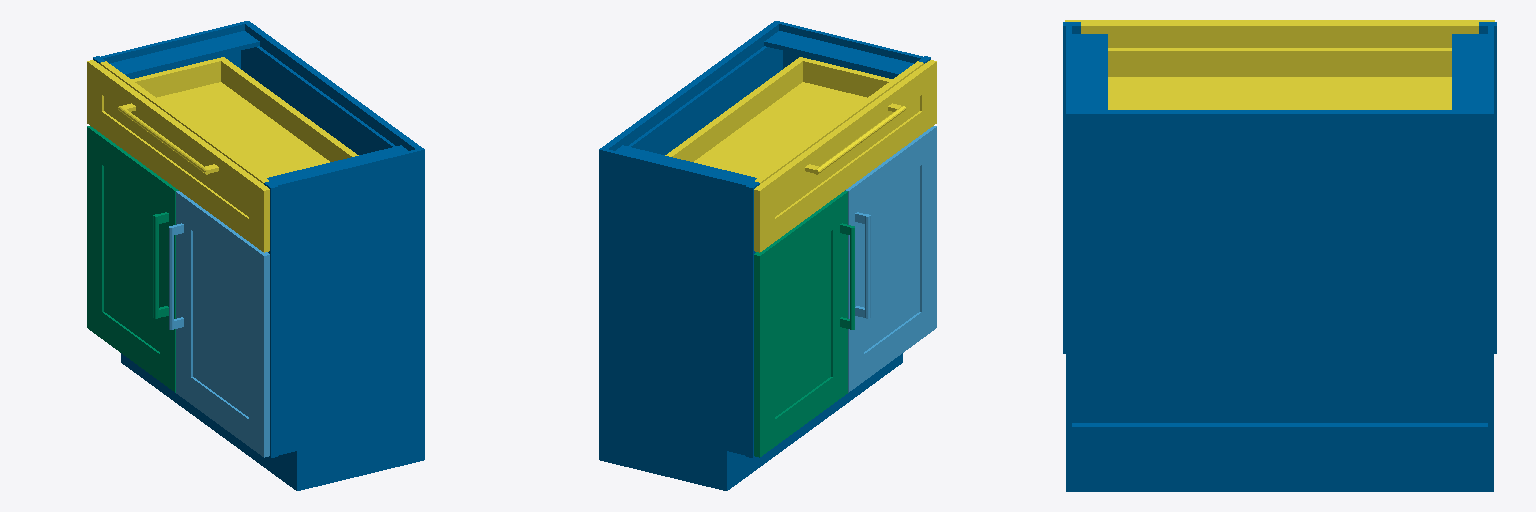
URDF robot description (partnet_12b0773858754105c59350d819542ec7):
<?xml version="1.0" ?>
<robot name="partnet_12b0773858754105c59350d819542ec7">
	<link name="base"/>
	<link name="link_0">
		<visual name="cabinet_door_surface-23">
			<origin xyz="-0.6814305018069304 -0.5983409881591797 -0.3320541917515619"/>
			<geometry>
				<mesh filename="textured_objs/original-63.obj"/>
			</geometry>
		</visual>
		<visual name="cabinet_door_surface-23">
			<origin xyz="-0.6814305018069304 -0.5983409881591797 -0.3320541917515619"/>
			<geometry>
				<mesh filename="textured_objs/original-58.obj"/>
			</geometry>
		</visual>
		<visual name="cabinet_door_surface-23">
			<origin xyz="-0.6814305018069304 -0.5983409881591797 -0.3320541917515619"/>
			<geometry>
				<mesh filename="textured_objs/original-60.obj"/>
			</geometry>
		</visual>
		<visual name="cabinet_door_surface-23">
			<origin xyz="-0.6814305018069304 -0.5983409881591797 -0.3320541917515619"/>
			<geometry>
				<mesh filename="textured_objs/original-59.obj"/>
			</geometry>
		</visual>
		<visual name="cabinet_door_surface-23">
			<origin xyz="-0.6814305018069304 -0.5983409881591797 -0.3320541917515619"/>
			<geometry>
				<mesh filename="textured_objs/original-61.obj"/>
			</geometry>
		</visual>
		<visual name="cabinet_door_surface-23">
			<origin xyz="-0.6814305018069304 -0.5983409881591797 -0.3320541917515619"/>
			<geometry>
				<mesh filename="textured_objs/original-64.obj"/>
			</geometry>
		</visual>
		<visual name="handle-24">
			<origin xyz="-0.6814305018069304 -0.5983409881591797 -0.3320541917515619"/>
			<geometry>
				<mesh filename="textured_objs/original-68.obj"/>
			</geometry>
		</visual>
		<visual name="handle-24">
			<origin xyz="-0.6814305018069304 -0.5983409881591797 -0.3320541917515619"/>
			<geometry>
				<mesh filename="textured_objs/original-67.obj"/>
			</geometry>
		</visual>
		<visual name="handle-24">
			<origin xyz="-0.6814305018069304 -0.5983409881591797 -0.3320541917515619"/>
			<geometry>
				<mesh filename="textured_objs/original-66.obj"/>
			</geometry>
		</visual>
		<collision>
			<origin xyz="-0.6814305018069304 -0.5983409881591797 -0.3320541917515619"/>
			<geometry>
				<mesh filename="textured_objs/original-63.obj"/>
			</geometry>
		</collision>
		<collision>
			<origin xyz="-0.6814305018069304 -0.5983409881591797 -0.3320541917515619"/>
			<geometry>
				<mesh filename="textured_objs/original-58.obj"/>
			</geometry>
		</collision>
		<collision>
			<origin xyz="-0.6814305018069304 -0.5983409881591797 -0.3320541917515619"/>
			<geometry>
				<mesh filename="textured_objs/original-60.obj"/>
			</geometry>
		</collision>
		<collision>
			<origin xyz="-0.6814305018069304 -0.5983409881591797 -0.3320541917515619"/>
			<geometry>
				<mesh filename="textured_objs/original-59.obj"/>
			</geometry>
		</collision>
		<collision>
			<origin xyz="-0.6814305018069304 -0.5983409881591797 -0.3320541917515619"/>
			<geometry>
				<mesh filename="textured_objs/original-61.obj"/>
			</geometry>
		</collision>
		<collision>
			<origin xyz="-0.6814305018069304 -0.5983409881591797 -0.3320541917515619"/>
			<geometry>
				<mesh filename="textured_objs/original-64.obj"/>
			</geometry>
		</collision>
		<collision>
			<origin xyz="-0.6814305018069304 -0.5983409881591797 -0.3320541917515619"/>
			<geometry>
				<mesh filename="textured_objs/original-68.obj"/>
			</geometry>
		</collision>
		<collision>
			<origin xyz="-0.6814305018069304 -0.5983409881591797 -0.3320541917515619"/>
			<geometry>
				<mesh filename="textured_objs/original-67.obj"/>
			</geometry>
		</collision>
		<collision>
			<origin xyz="-0.6814305018069304 -0.5983409881591797 -0.3320541917515619"/>
			<geometry>
				<mesh filename="textured_objs/original-66.obj"/>
			</geometry>
		</collision>
	</link>
	<joint name="joint_0" type="revolute">
		<origin xyz="0.6814305018069304 0.5983409881591797 0.3320541917515619"/>
		<axis xyz="0 1 0"/>
		<child link="link_0"/>
		<parent link="link_3"/>
		<limit lower="0.0" upper="1.5707963267948966"/>
	</joint>
	<link name="link_1">
		<visual name="cabinet_door_surface-21">
			<origin xyz="0.6694047636052665 -0.5983409881591797 -0.33477018399758013"/>
			<geometry>
				<mesh filename="textured_objs/original-52.obj"/>
			</geometry>
		</visual>
		<visual name="cabinet_door_surface-21">
			<origin xyz="0.6694047636052665 -0.5983409881591797 -0.33477018399758013"/>
			<geometry>
				<mesh filename="textured_objs/original-46.obj"/>
			</geometry>
		</visual>
		<visual name="cabinet_door_surface-21">
			<origin xyz="0.6694047636052665 -0.5983409881591797 -0.33477018399758013"/>
			<geometry>
				<mesh filename="textured_objs/original-49.obj"/>
			</geometry>
		</visual>
		<visual name="cabinet_door_surface-21">
			<origin xyz="0.6694047636052665 -0.5983409881591797 -0.33477018399758013"/>
			<geometry>
				<mesh filename="textured_objs/original-48.obj"/>
			</geometry>
		</visual>
		<visual name="cabinet_door_surface-21">
			<origin xyz="0.6694047636052665 -0.5983409881591797 -0.33477018399758013"/>
			<geometry>
				<mesh filename="textured_objs/original-47.obj"/>
			</geometry>
		</visual>
		<visual name="cabinet_door_surface-21">
			<origin xyz="0.6694047636052665 -0.5983409881591797 -0.33477018399758013"/>
			<geometry>
				<mesh filename="textured_objs/original-51.obj"/>
			</geometry>
		</visual>
		<visual name="handle-22">
			<origin xyz="0.6694047636052665 -0.5983409881591797 -0.33477018399758013"/>
			<geometry>
				<mesh filename="textured_objs/original-54.obj"/>
			</geometry>
		</visual>
		<visual name="handle-22">
			<origin xyz="0.6694047636052665 -0.5983409881591797 -0.33477018399758013"/>
			<geometry>
				<mesh filename="textured_objs/original-56.obj"/>
			</geometry>
		</visual>
		<visual name="handle-22">
			<origin xyz="0.6694047636052665 -0.5983409881591797 -0.33477018399758013"/>
			<geometry>
				<mesh filename="textured_objs/original-55.obj"/>
			</geometry>
		</visual>
		<collision>
			<origin xyz="0.6694047636052665 -0.5983409881591797 -0.33477018399758013"/>
			<geometry>
				<mesh filename="textured_objs/original-52.obj"/>
			</geometry>
		</collision>
		<collision>
			<origin xyz="0.6694047636052665 -0.5983409881591797 -0.33477018399758013"/>
			<geometry>
				<mesh filename="textured_objs/original-46.obj"/>
			</geometry>
		</collision>
		<collision>
			<origin xyz="0.6694047636052665 -0.5983409881591797 -0.33477018399758013"/>
			<geometry>
				<mesh filename="textured_objs/original-49.obj"/>
			</geometry>
		</collision>
		<collision>
			<origin xyz="0.6694047636052665 -0.5983409881591797 -0.33477018399758013"/>
			<geometry>
				<mesh filename="textured_objs/original-48.obj"/>
			</geometry>
		</collision>
		<collision>
			<origin xyz="0.6694047636052665 -0.5983409881591797 -0.33477018399758013"/>
			<geometry>
				<mesh filename="textured_objs/original-47.obj"/>
			</geometry>
		</collision>
		<collision>
			<origin xyz="0.6694047636052665 -0.5983409881591797 -0.33477018399758013"/>
			<geometry>
				<mesh filename="textured_objs/original-51.obj"/>
			</geometry>
		</collision>
		<collision>
			<origin xyz="0.6694047636052665 -0.5983409881591797 -0.33477018399758013"/>
			<geometry>
				<mesh filename="textured_objs/original-54.obj"/>
			</geometry>
		</collision>
		<collision>
			<origin xyz="0.6694047636052665 -0.5983409881591797 -0.33477018399758013"/>
			<geometry>
				<mesh filename="textured_objs/original-56.obj"/>
			</geometry>
		</collision>
		<collision>
			<origin xyz="0.6694047636052665 -0.5983409881591797 -0.33477018399758013"/>
			<geometry>
				<mesh filename="textured_objs/original-55.obj"/>
			</geometry>
		</collision>
	</link>
	<joint name="joint_1" type="fixed">
		<origin xyz="-0.6694047636052665 0.5983409881591797 0.33477018399758013"/>
		<axis xyz="0 -1 0"/>
		<child link="link_1"/>
		<parent link="link_3"/>
		<limit lower="-0.0" upper="1.5707963267948966"/>
	</joint>
	<link name="link_2">
		<visual name="drawer_front-16">
			<origin xyz="-0.009011663265851733 -0.48111949698061995 0.3306339979171753"/>
			<geometry>
				<mesh filename="textured_objs/original-34.obj"/>
			</geometry>
		</visual>
		<visual name="drawer_front-16">
			<origin xyz="-0.009011663265851733 -0.48111949698061995 0.3306339979171753"/>
			<geometry>
				<mesh filename="textured_objs/original-40.obj"/>
			</geometry>
		</visual>
		<visual name="drawer_front-16">
			<origin xyz="-0.009011663265851733 -0.48111949698061995 0.3306339979171753"/>
			<geometry>
				<mesh filename="textured_objs/original-37.obj"/>
			</geometry>
		</visual>
		<visual name="drawer_front-16">
			<origin xyz="-0.009011663265851733 -0.48111949698061995 0.3306339979171753"/>
			<geometry>
				<mesh filename="textured_objs/original-35.obj"/>
			</geometry>
		</visual>
		<visual name="drawer_front-16">
			<origin xyz="-0.009011663265851733 -0.48111949698061995 0.3306339979171753"/>
			<geometry>
				<mesh filename="textured_objs/original-7.obj"/>
			</geometry>
		</visual>
		<visual name="drawer_front-16">
			<origin xyz="-0.009011663265851733 -0.48111949698061995 0.3306339979171753"/>
			<geometry>
				<mesh filename="textured_objs/original-26.obj"/>
			</geometry>
		</visual>
		<visual name="drawer_front-16">
			<origin xyz="-0.009011663265851733 -0.48111949698061995 0.3306339979171753"/>
			<geometry>
				<mesh filename="textured_objs/original-39.obj"/>
			</geometry>
		</visual>
		<visual name="drawer_front-16">
			<origin xyz="-0.009011663265851733 -0.48111949698061995 0.3306339979171753"/>
			<geometry>
				<mesh filename="textured_objs/original-36.obj"/>
			</geometry>
		</visual>
		<visual name="drawer_side-17">
			<origin xyz="-0.009011663265851733 -0.48111949698061995 0.3306339979171753"/>
			<geometry>
				<mesh filename="textured_objs/original-30.obj"/>
			</geometry>
		</visual>
		<visual name="drawer_side-17">
			<origin xyz="-0.009011663265851733 -0.48111949698061995 0.3306339979171753"/>
			<geometry>
				<mesh filename="textured_objs/original-32.obj"/>
			</geometry>
		</visual>
		<visual name="drawer_side-18">
			<origin xyz="-0.009011663265851733 -0.48111949698061995 0.3306339979171753"/>
			<geometry>
				<mesh filename="textured_objs/original-25.obj"/>
			</geometry>
		</visual>
		<visual name="drawer_back-19">
			<origin xyz="-0.009011663265851733 -0.48111949698061995 0.3306339979171753"/>
			<geometry>
				<mesh filename="textured_objs/original-31.obj"/>
			</geometry>
		</visual>
		<visual name="drawer_bottom-20">
			<origin xyz="-0.009011663265851733 -0.48111949698061995 0.3306339979171753"/>
			<geometry>
				<mesh filename="textured_objs/original-29.obj"/>
			</geometry>
		</visual>
		<visual name="drawer_bottom-20">
			<origin xyz="-0.009011663265851733 -0.48111949698061995 0.3306339979171753"/>
			<geometry>
				<mesh filename="textured_objs/original-28.obj"/>
			</geometry>
		</visual>
		<visual name="handle-15">
			<origin xyz="-0.009011663265851733 -0.48111949698061995 0.3306339979171753"/>
			<geometry>
				<mesh filename="textured_objs/original-42.obj"/>
			</geometry>
		</visual>
		<visual name="handle-15">
			<origin xyz="-0.009011663265851733 -0.48111949698061995 0.3306339979171753"/>
			<geometry>
				<mesh filename="textured_objs/original-43.obj"/>
			</geometry>
		</visual>
		<visual name="handle-15">
			<origin xyz="-0.009011663265851733 -0.48111949698061995 0.3306339979171753"/>
			<geometry>
				<mesh filename="textured_objs/original-44.obj"/>
			</geometry>
		</visual>
		<collision>
			<origin xyz="-0.009011663265851733 -0.48111949698061995 0.3306339979171753"/>
			<geometry>
				<mesh filename="textured_objs/original-34.obj"/>
			</geometry>
		</collision>
		<collision>
			<origin xyz="-0.009011663265851733 -0.48111949698061995 0.3306339979171753"/>
			<geometry>
				<mesh filename="textured_objs/original-40.obj"/>
			</geometry>
		</collision>
		<collision>
			<origin xyz="-0.009011663265851733 -0.48111949698061995 0.3306339979171753"/>
			<geometry>
				<mesh filename="textured_objs/original-37.obj"/>
			</geometry>
		</collision>
		<collision>
			<origin xyz="-0.009011663265851733 -0.48111949698061995 0.3306339979171753"/>
			<geometry>
				<mesh filename="textured_objs/original-35.obj"/>
			</geometry>
		</collision>
		<collision>
			<origin xyz="-0.009011663265851733 -0.48111949698061995 0.3306339979171753"/>
			<geometry>
				<mesh filename="textured_objs/original-7.obj"/>
			</geometry>
		</collision>
		<collision>
			<origin xyz="-0.009011663265851733 -0.48111949698061995 0.3306339979171753"/>
			<geometry>
				<mesh filename="textured_objs/original-26.obj"/>
			</geometry>
		</collision>
		<collision>
			<origin xyz="-0.009011663265851733 -0.48111949698061995 0.3306339979171753"/>
			<geometry>
				<mesh filename="textured_objs/original-39.obj"/>
			</geometry>
		</collision>
		<collision>
			<origin xyz="-0.009011663265851733 -0.48111949698061995 0.3306339979171753"/>
			<geometry>
				<mesh filename="textured_objs/original-36.obj"/>
			</geometry>
		</collision>
		<collision>
			<origin xyz="-0.009011663265851733 -0.48111949698061995 0.3306339979171753"/>
			<geometry>
				<mesh filename="textured_objs/original-30.obj"/>
			</geometry>
		</collision>
		<collision>
			<origin xyz="-0.009011663265851733 -0.48111949698061995 0.3306339979171753"/>
			<geometry>
				<mesh filename="textured_objs/original-32.obj"/>
			</geometry>
		</collision>
		<collision>
			<origin xyz="-0.009011663265851733 -0.48111949698061995 0.3306339979171753"/>
			<geometry>
				<mesh filename="textured_objs/original-25.obj"/>
			</geometry>
		</collision>
		<collision>
			<origin xyz="-0.009011663265851733 -0.48111949698061995 0.3306339979171753"/>
			<geometry>
				<mesh filename="textured_objs/original-31.obj"/>
			</geometry>
		</collision>
		<collision>
			<origin xyz="-0.009011663265851733 -0.48111949698061995 0.3306339979171753"/>
			<geometry>
				<mesh filename="textured_objs/original-29.obj"/>
			</geometry>
		</collision>
		<collision>
			<origin xyz="-0.009011663265851733 -0.48111949698061995 0.3306339979171753"/>
			<geometry>
				<mesh filename="textured_objs/original-28.obj"/>
			</geometry>
		</collision>
		<collision>
			<origin xyz="-0.009011663265851733 -0.48111949698061995 0.3306339979171753"/>
			<geometry>
				<mesh filename="textured_objs/original-42.obj"/>
			</geometry>
		</collision>
		<collision>
			<origin xyz="-0.009011663265851733 -0.48111949698061995 0.3306339979171753"/>
			<geometry>
				<mesh filename="textured_objs/original-43.obj"/>
			</geometry>
		</collision>
		<collision>
			<origin xyz="-0.009011663265851733 -0.48111949698061995 0.3306339979171753"/>
			<geometry>
				<mesh filename="textured_objs/original-44.obj"/>
			</geometry>
		</collision>
	</link>
	<joint name="joint_2" type="fixed">
		<origin xyz="0.009011663265851733 0.48111949698061995 -0.3306339979171753"/>
		<axis xyz="0 0 1"/>
		<child link="link_2"/>
		<parent link="link_3"/>
		<limit lower="0" upper="0.43999999999999995"/>
	</joint>
	<link name="link_3">
		<visual name="shelf-9">
			<origin xyz="0 0 0"/>
			<geometry>
				<mesh filename="textured_objs/original-2.obj"/>
			</geometry>
		</visual>
		<visual name="vertical_side_panel-30">
			<origin xyz="0 0 0"/>
			<geometry>
				<mesh filename="textured_objs/original-16.obj"/>
			</geometry>
		</visual>
		<visual name="vertical_side_panel-30">
			<origin xyz="0 0 0"/>
			<geometry>
				<mesh filename="textured_objs/original-15.obj"/>
			</geometry>
		</visual>
		<visual name="vertical_side_panel-31">
			<origin xyz="0 0 0"/>
			<geometry>
				<mesh filename="textured_objs/original-12.obj"/>
			</geometry>
		</visual>
		<visual name="vertical_side_panel-31">
			<origin xyz="0 0 0"/>
			<geometry>
				<mesh filename="textured_objs/original-11.obj"/>
			</geometry>
		</visual>
		<visual name="back_panel-32">
			<origin xyz="0 0 0"/>
			<geometry>
				<mesh filename="textured_objs/original-69.obj"/>
			</geometry>
		</visual>
		<visual name="back_panel-32">
			<origin xyz="0 0 0"/>
			<geometry>
				<mesh filename="textured_objs/original-6.obj"/>
			</geometry>
		</visual>
		<visual name="bottom_panel-33">
			<origin xyz="0 0 0"/>
			<geometry>
				<mesh filename="textured_objs/original-3.obj"/>
			</geometry>
		</visual>
		<visual name="frame_vertical_bar-34">
			<origin xyz="0 0 0"/>
			<geometry>
				<mesh filename="textured_objs/original-8.obj"/>
			</geometry>
		</visual>
		<visual name="frame_vertical_bar-35">
			<origin xyz="0 0 0"/>
			<geometry>
				<mesh filename="textured_objs/original-4.obj"/>
			</geometry>
		</visual>
		<visual name="frame_horizontal_bar-36">
			<origin xyz="0 0 0"/>
			<geometry>
				<mesh filename="textured_objs/original-9.obj"/>
			</geometry>
		</visual>
		<visual name="frame_horizontal_bar-37">
			<origin xyz="0 0 0"/>
			<geometry>
				<mesh filename="textured_objs/original-22.obj"/>
			</geometry>
		</visual>
		<visual name="frame_horizontal_bar-38">
			<origin xyz="0 0 0"/>
			<geometry>
				<mesh filename="textured_objs/original-21.obj"/>
			</geometry>
		</visual>
		<visual name="frame_horizontal_bar-39">
			<origin xyz="0 0 0"/>
			<geometry>
				<mesh filename="textured_objs/original-5.obj"/>
			</geometry>
		</visual>
		<visual name="frame_horizontal_bar-40">
			<origin xyz="0 0 0"/>
			<geometry>
				<mesh filename="textured_objs/original-18.obj"/>
			</geometry>
		</visual>
		<visual name="base_side_panel-26">
			<origin xyz="0 0 0"/>
			<geometry>
				<mesh filename="textured_objs/original-19.obj"/>
			</geometry>
		</visual>
		<visual name="base_side_panel-27">
			<origin xyz="0 0 0"/>
			<geometry>
				<mesh filename="textured_objs/original-13.obj"/>
			</geometry>
		</visual>
		<visual name="base_side_panel-28">
			<origin xyz="0 0 0"/>
			<geometry>
				<mesh filename="textured_objs/original-20.obj"/>
			</geometry>
		</visual>
		<visual name="base_side_panel-29">
			<origin xyz="0 0 0"/>
			<geometry>
				<mesh filename="textured_objs/original-17.obj"/>
			</geometry>
		</visual>
		<collision>
			<origin xyz="0 0 0"/>
			<geometry>
				<mesh filename="textured_objs/original-2.obj"/>
			</geometry>
		</collision>
		<collision>
			<origin xyz="0 0 0"/>
			<geometry>
				<mesh filename="textured_objs/original-16.obj"/>
			</geometry>
		</collision>
		<collision>
			<origin xyz="0 0 0"/>
			<geometry>
				<mesh filename="textured_objs/original-15.obj"/>
			</geometry>
		</collision>
		<collision>
			<origin xyz="0 0 0"/>
			<geometry>
				<mesh filename="textured_objs/original-12.obj"/>
			</geometry>
		</collision>
		<collision>
			<origin xyz="0 0 0"/>
			<geometry>
				<mesh filename="textured_objs/original-11.obj"/>
			</geometry>
		</collision>
		<collision>
			<origin xyz="0 0 0"/>
			<geometry>
				<mesh filename="textured_objs/original-69.obj"/>
			</geometry>
		</collision>
		<collision>
			<origin xyz="0 0 0"/>
			<geometry>
				<mesh filename="textured_objs/original-6.obj"/>
			</geometry>
		</collision>
		<collision>
			<origin xyz="0 0 0"/>
			<geometry>
				<mesh filename="textured_objs/original-3.obj"/>
			</geometry>
		</collision>
		<collision>
			<origin xyz="0 0 0"/>
			<geometry>
				<mesh filename="textured_objs/original-8.obj"/>
			</geometry>
		</collision>
		<collision>
			<origin xyz="0 0 0"/>
			<geometry>
				<mesh filename="textured_objs/original-4.obj"/>
			</geometry>
		</collision>
		<collision>
			<origin xyz="0 0 0"/>
			<geometry>
				<mesh filename="textured_objs/original-9.obj"/>
			</geometry>
		</collision>
		<collision>
			<origin xyz="0 0 0"/>
			<geometry>
				<mesh filename="textured_objs/original-22.obj"/>
			</geometry>
		</collision>
		<collision>
			<origin xyz="0 0 0"/>
			<geometry>
				<mesh filename="textured_objs/original-21.obj"/>
			</geometry>
		</collision>
		<collision>
			<origin xyz="0 0 0"/>
			<geometry>
				<mesh filename="textured_objs/original-5.obj"/>
			</geometry>
		</collision>
		<collision>
			<origin xyz="0 0 0"/>
			<geometry>
				<mesh filename="textured_objs/original-18.obj"/>
			</geometry>
		</collision>
		<collision>
			<origin xyz="0 0 0"/>
			<geometry>
				<mesh filename="textured_objs/original-19.obj"/>
			</geometry>
		</collision>
		<collision>
			<origin xyz="0 0 0"/>
			<geometry>
				<mesh filename="textured_objs/original-13.obj"/>
			</geometry>
		</collision>
		<collision>
			<origin xyz="0 0 0"/>
			<geometry>
				<mesh filename="textured_objs/original-20.obj"/>
			</geometry>
		</collision>
		<collision>
			<origin xyz="0 0 0"/>
			<geometry>
				<mesh filename="textured_objs/original-17.obj"/>
			</geometry>
		</collision>
	</link>
	<joint name="joint_3" type="fixed">
		<origin rpy="1.570796326794897 0 -1.570796326794897" xyz="0 0 0"/>
		<child link="link_3"/>
		<parent link="base"/>
	</joint>
</robot>

--- What the picture shows (computed from the rendered views, not written in the file) ---
The picture shows the robot from 3 angles, left to right: view 1: azimuth 30°, elevation 25°; view 2: azimuth 150°, elevation 25°; view 3: azimuth 270°, elevation 25°; orthographic projection.
Model partnet_12b0773858754105c59350d819542ec7 with 5 links and 4 joints (1 revolute, 3 fixed), rooted at base, posed all joints at 0.
Links seen in each view (by area): view 1: link_3, link_2, link_0, link_1; view 2: link_3, link_2, link_1, link_0; view 3: link_3, link_2.
Link boxes in pixels (x1,y1,x2,y2): link_3: (93,21,424,490); link_2: (87,57,358,252); link_0: (169,191,269,457); link_1: (87,126,178,392); link_3: (599,21,930,490); link_2: (665,57,936,252); link_1: (754,191,854,457); link_0: (845,126,936,392); link_3: (1063,22,1496,491); link_2: (1065,20,1494,109).
Bounding box of the posed robot: 0.7847 × 1.39 × 1.33 m (x, y, z).
54 mesh visuals loaded from 54 distinct referenced files (54 OBJ).